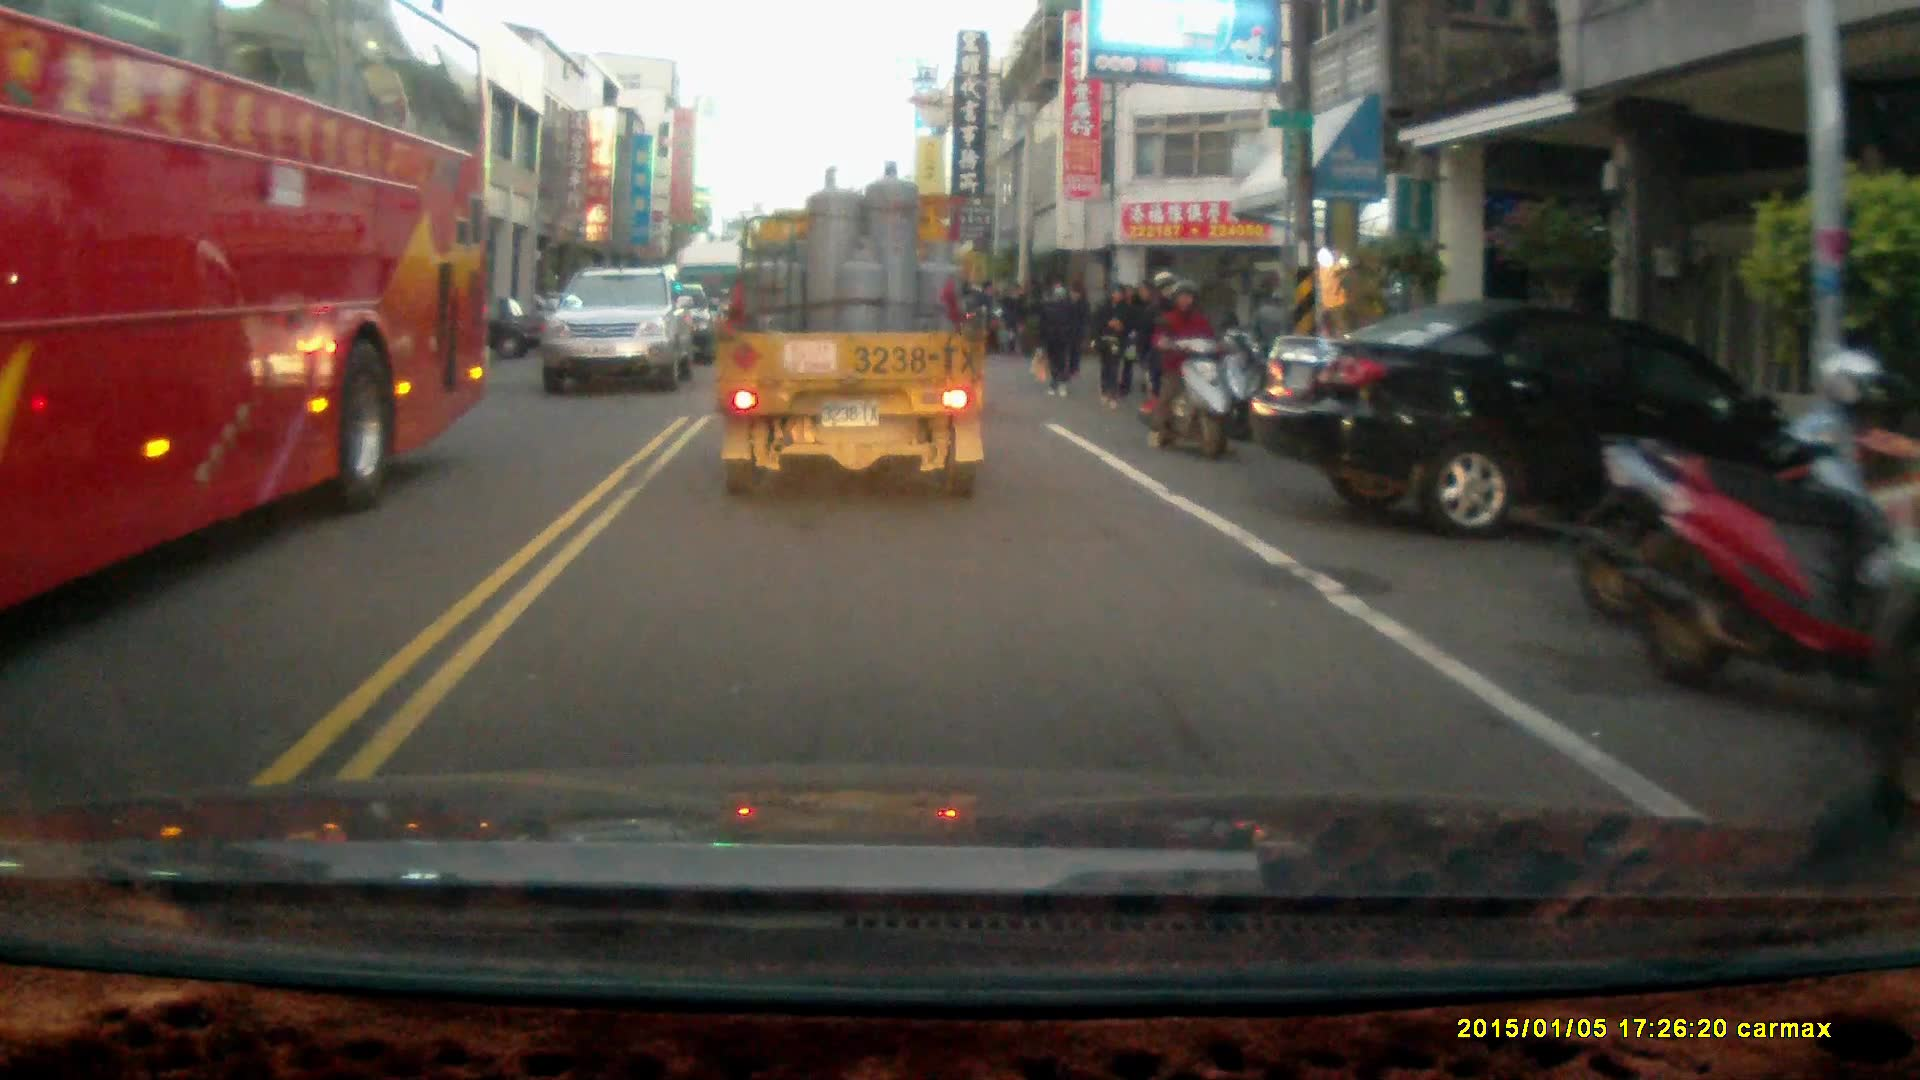pedestrian: (1128, 278, 1175, 411), (1034, 277, 1077, 397), (1096, 281, 1135, 412), (999, 276, 1027, 356)
rider: (1138, 268, 1228, 456)
vehicle: (1, 7, 499, 620), (1253, 302, 1818, 537), (715, 161, 994, 501), (543, 268, 692, 399)
